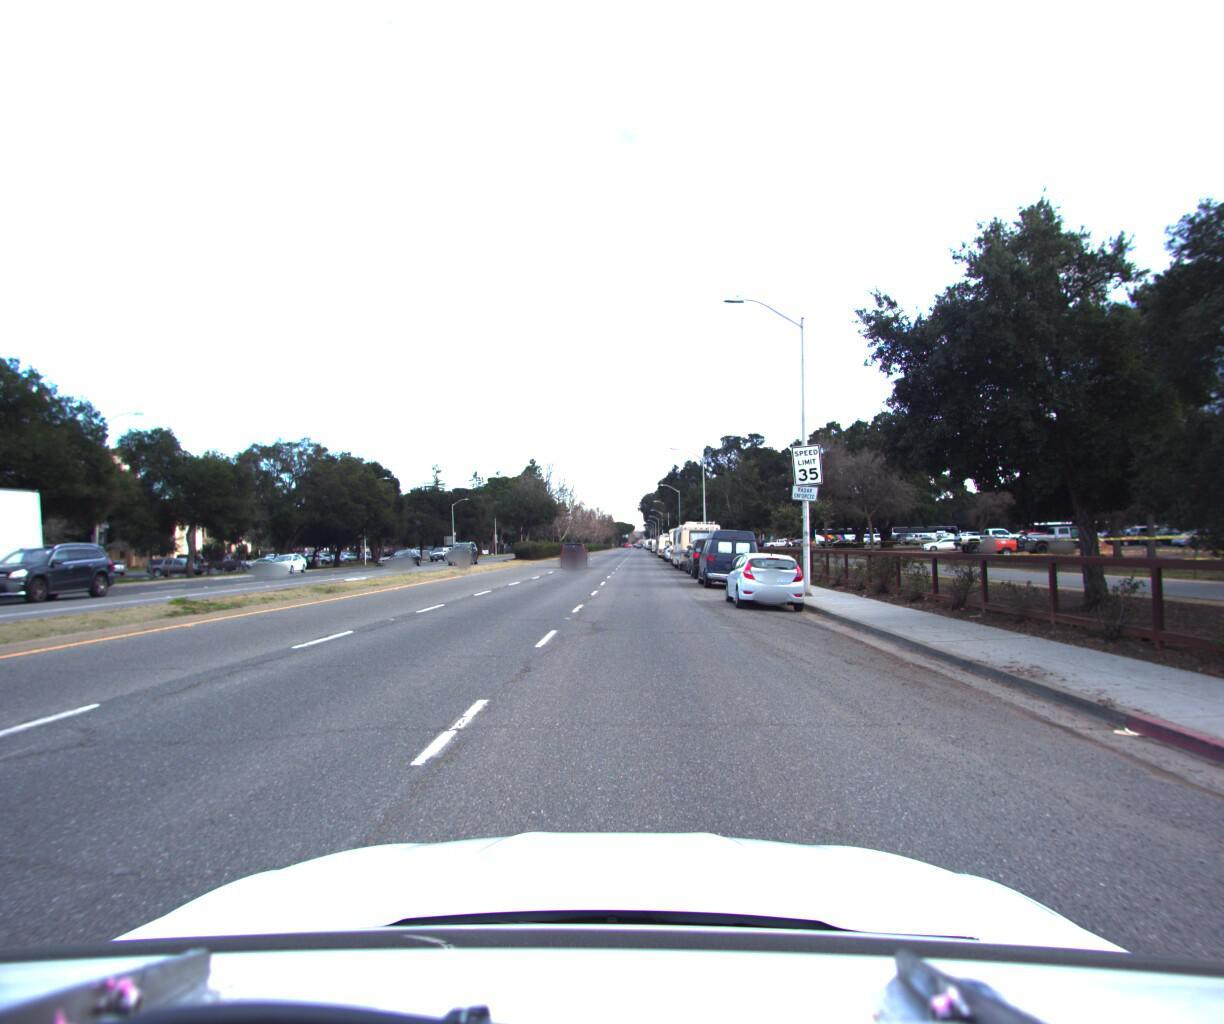car: (721, 543, 814, 607), (693, 520, 764, 584), (685, 528, 737, 573), (263, 548, 311, 573), (557, 535, 588, 563), (384, 546, 423, 567), (446, 538, 479, 562)
other_vehicle: (669, 513, 728, 567), (667, 520, 702, 560)
